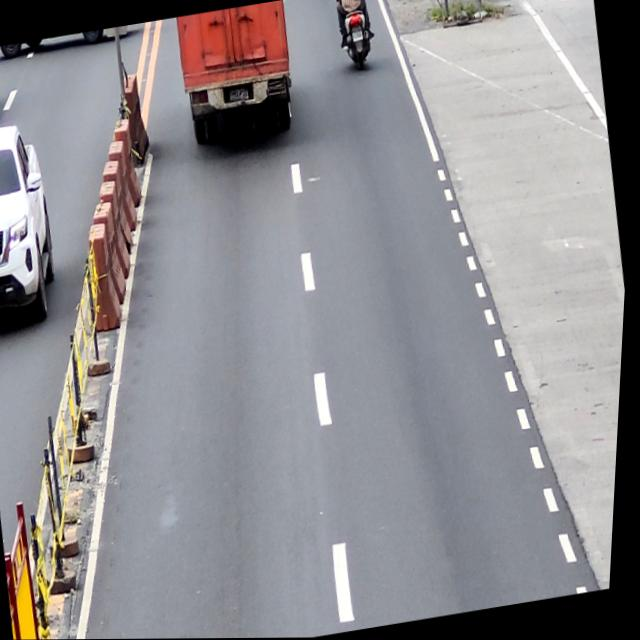License-Plate: (351, 31, 365, 45)
Motorcycle: (334, 0, 378, 71)
Truck: (169, 0, 303, 148)
